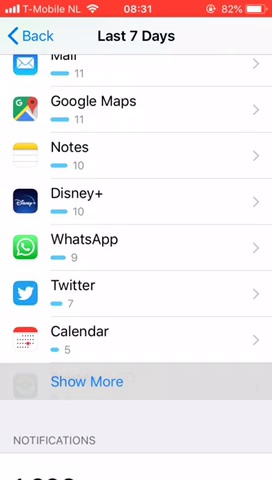pick_app: (8, 86, 153, 132), (11, 225, 152, 271), (6, 273, 144, 316), (4, 322, 164, 357), (9, 132, 127, 179), (10, 179, 132, 224)
week: (89, 25, 181, 45)
